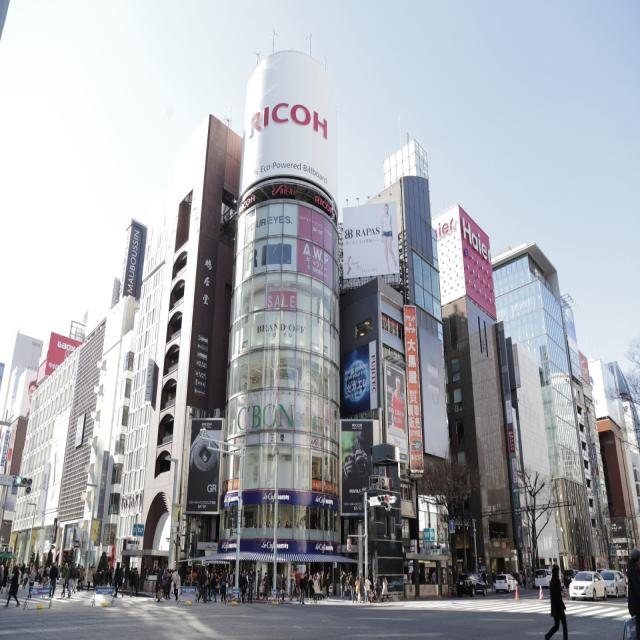body: (342, 428, 372, 507), (544, 564, 568, 640), (380, 202, 399, 274), (627, 547, 640, 639), (198, 566, 220, 607), (390, 377, 406, 431), (472, 562, 496, 596), (2, 564, 20, 609), (440, 564, 461, 597), (26, 381, 42, 420), (312, 356, 325, 401), (65, 522, 84, 552), (507, 563, 528, 587), (179, 562, 198, 588), (102, 518, 118, 547), (196, 568, 208, 604), (42, 524, 56, 554), (60, 560, 70, 599), (48, 562, 58, 598), (294, 565, 304, 598), (266, 570, 276, 603), (454, 418, 466, 445), (208, 570, 217, 604), (67, 560, 75, 598), (247, 567, 255, 604), (220, 568, 228, 604), (28, 564, 36, 600), (240, 567, 248, 603), (424, 566, 437, 588), (155, 564, 162, 603), (381, 574, 390, 604), (142, 566, 152, 593), (0, 561, 8, 594), (298, 574, 306, 606), (173, 569, 181, 601), (228, 514, 243, 531), (290, 574, 299, 602), (94, 567, 106, 588), (113, 562, 120, 597), (43, 561, 54, 583), (306, 574, 314, 604), (364, 575, 372, 604), (339, 570, 346, 602), (119, 566, 126, 598), (72, 564, 80, 592), (162, 564, 168, 600), (22, 563, 30, 590), (18, 560, 26, 587), (128, 568, 135, 598), (86, 566, 94, 592), (152, 562, 168, 575), (374, 575, 381, 604), (317, 573, 324, 601), (164, 572, 171, 600), (263, 570, 269, 602), (239, 571, 245, 603), (312, 573, 318, 604), (299, 516, 310, 532), (280, 572, 286, 601), (256, 570, 262, 599), (358, 576, 364, 604), (325, 572, 331, 600), (275, 570, 280, 603), (62, 560, 77, 571), (134, 570, 140, 597), (313, 518, 322, 534), (355, 575, 360, 603), (169, 566, 178, 581), (346, 572, 351, 596), (243, 520, 258, 528), (347, 572, 351, 601), (304, 571, 308, 598), (82, 566, 86, 593), (78, 565, 82, 592), (109, 567, 114, 588), (39, 565, 44, 585), (77, 562, 83, 576), (330, 524, 337, 536), (105, 566, 109, 586), (128, 565, 138, 573), (198, 569, 205, 580), (232, 568, 236, 586), (28, 560, 33, 574), (584, 572, 591, 582), (609, 570, 616, 580), (115, 440, 120, 453), (238, 568, 242, 584), (58, 563, 62, 578), (276, 520, 281, 532), (228, 568, 232, 582), (368, 572, 373, 583), (266, 520, 271, 531), (219, 566, 224, 576), (285, 520, 290, 530), (320, 570, 325, 579), (342, 570, 346, 578), (316, 570, 319, 579), (356, 570, 360, 576), (360, 572, 362, 576)
